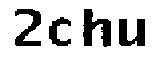2: (11, 6, 46, 48)
c: (48, 16, 75, 50)
h: (81, 6, 112, 51)
u: (117, 15, 148, 51)
